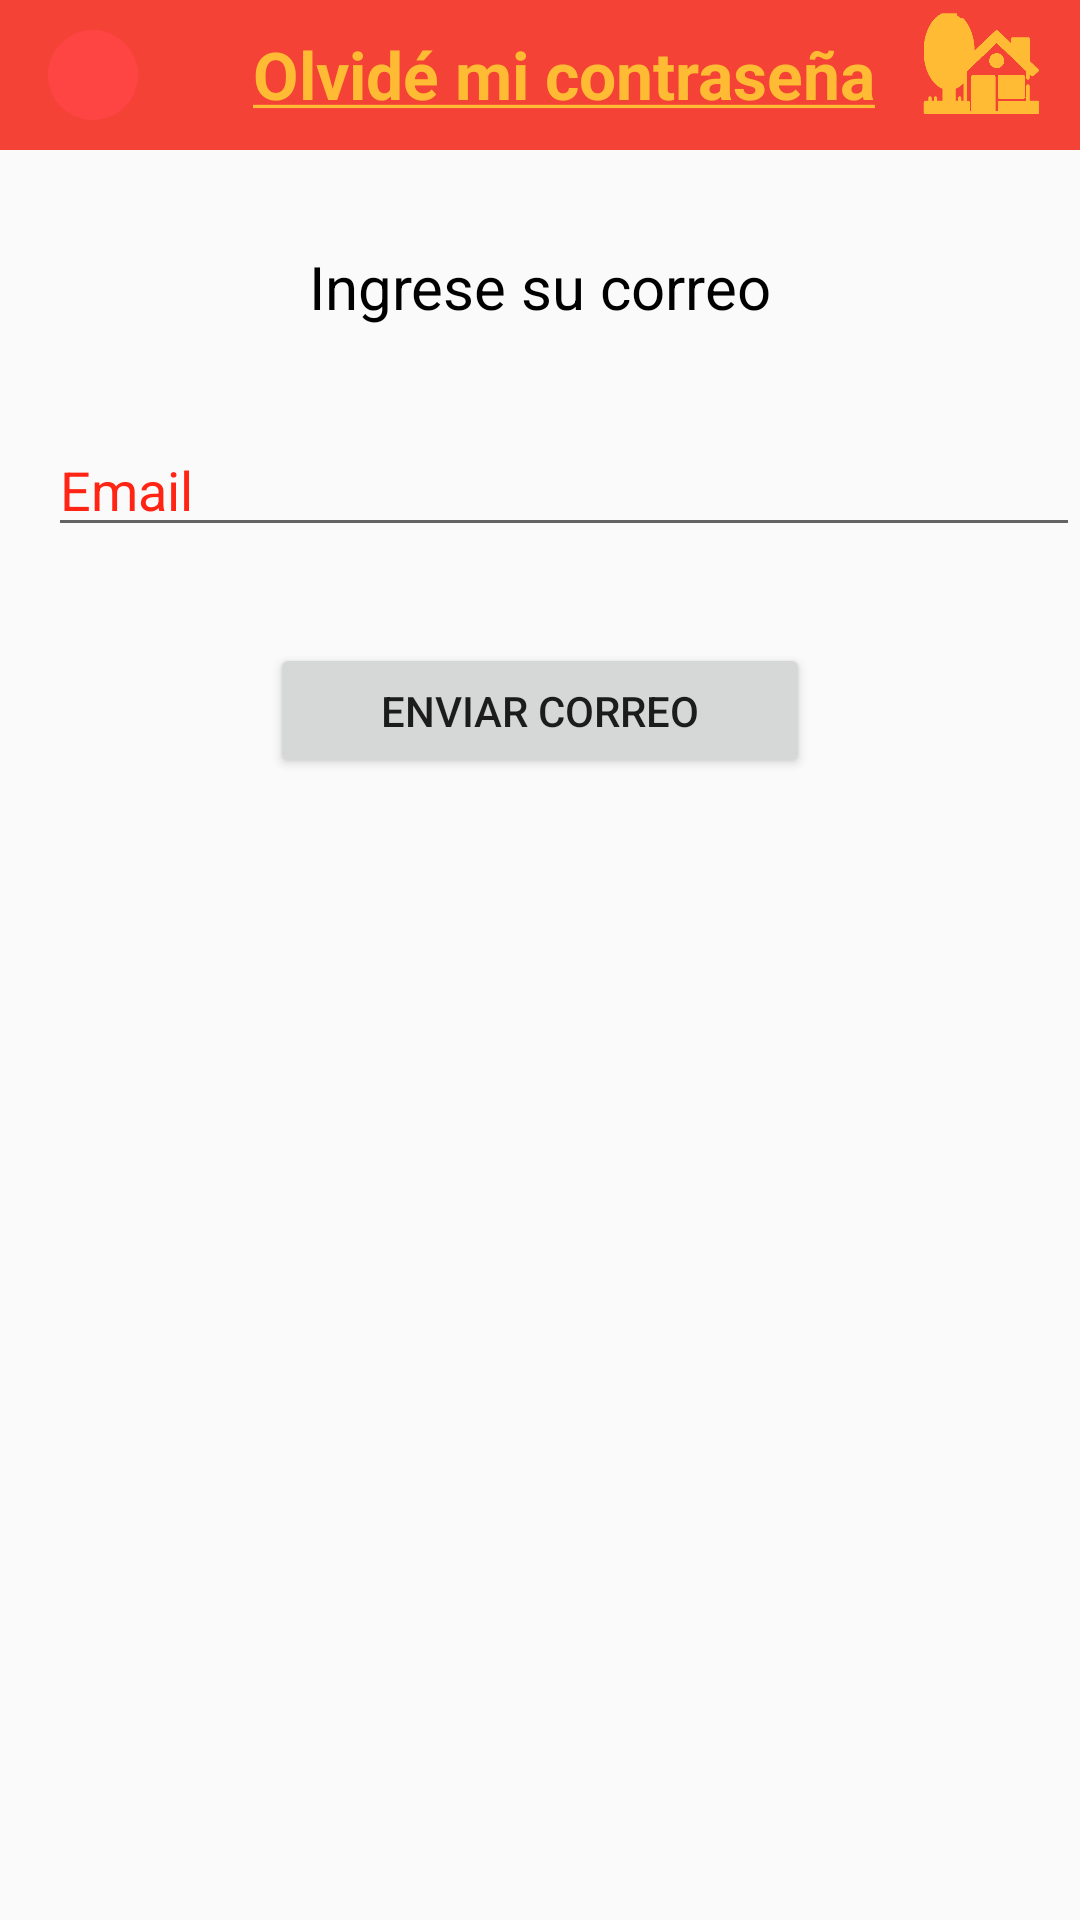

Icons on this 1080*1920 Android screen, each with the point to tap as point (x, y):
casa: point (981, 63)
